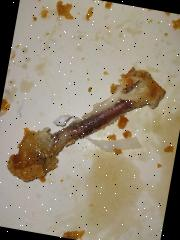organic: (3, 38, 176, 211)
